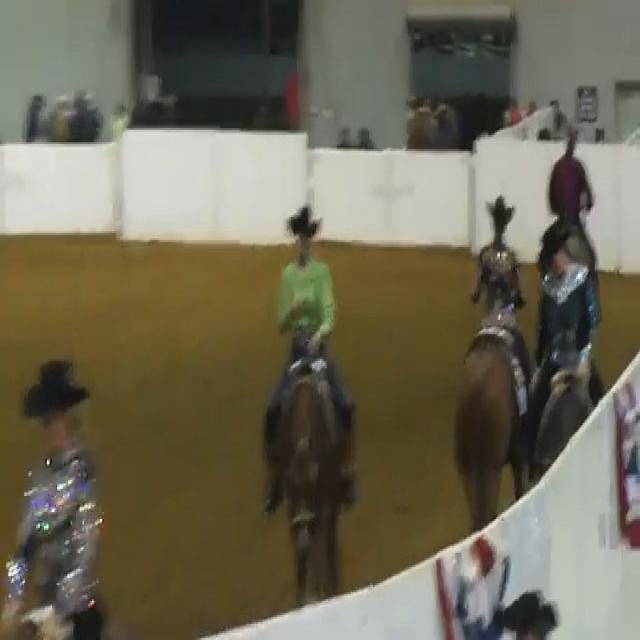horse: (248, 182, 366, 600)
